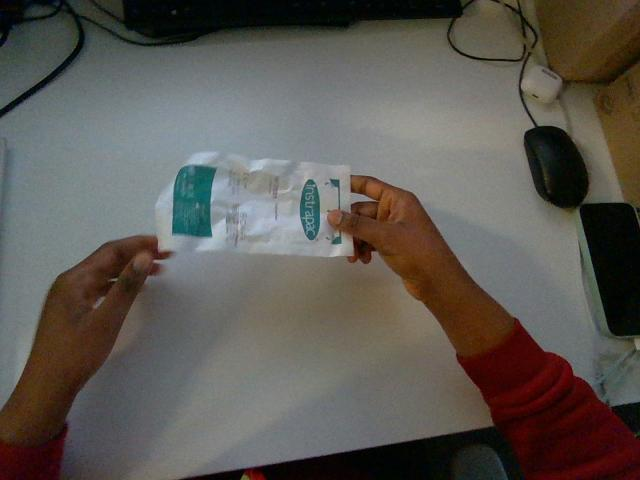gallipot: (156, 152, 353, 256)
